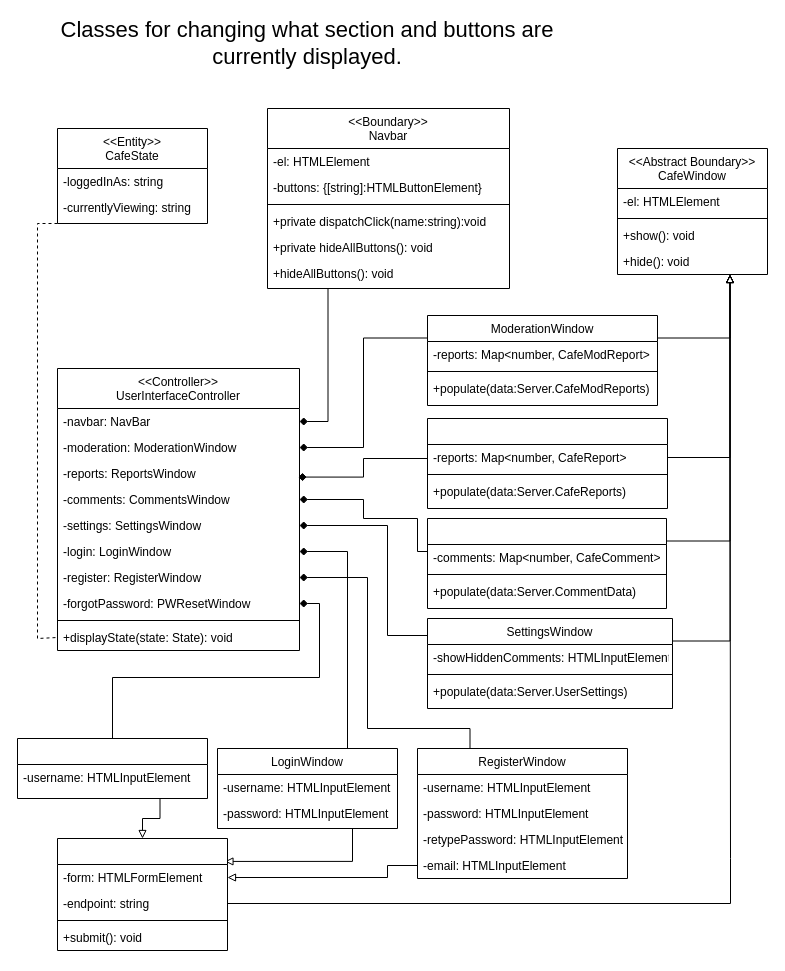
Image size: 785x971. Some labels were removed from this diagram. Here are the shapes that lost their labels. From the top down, the box of each, then its label:
(426, 418, 668, 508): ReportsWindow
(426, 518, 666, 608): CommentsWindow
(16, 738, 208, 798): PWResetWindow
(56, 838, 228, 950): FormWindow
